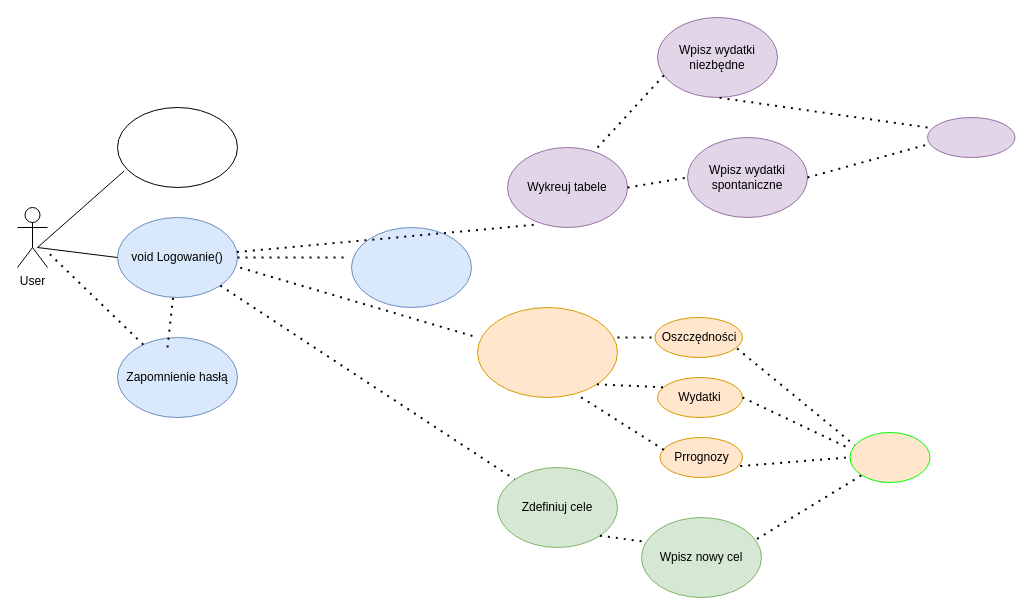
The diagram is 1033 pixels wide and 615 high, and some of its shapes have lost their labels. Here are the shapes that lost their labels. From the top down, the box of each, then its label:
(116, 106, 238, 188): Rejestracja
(926, 116, 1015, 158): Przydziel kategorie
(350, 226, 472, 308): void Zmień hasło()
(476, 306, 618, 398): Pokaż wykresy
(849, 432, 930, 482): Ustaw okres czasowy
